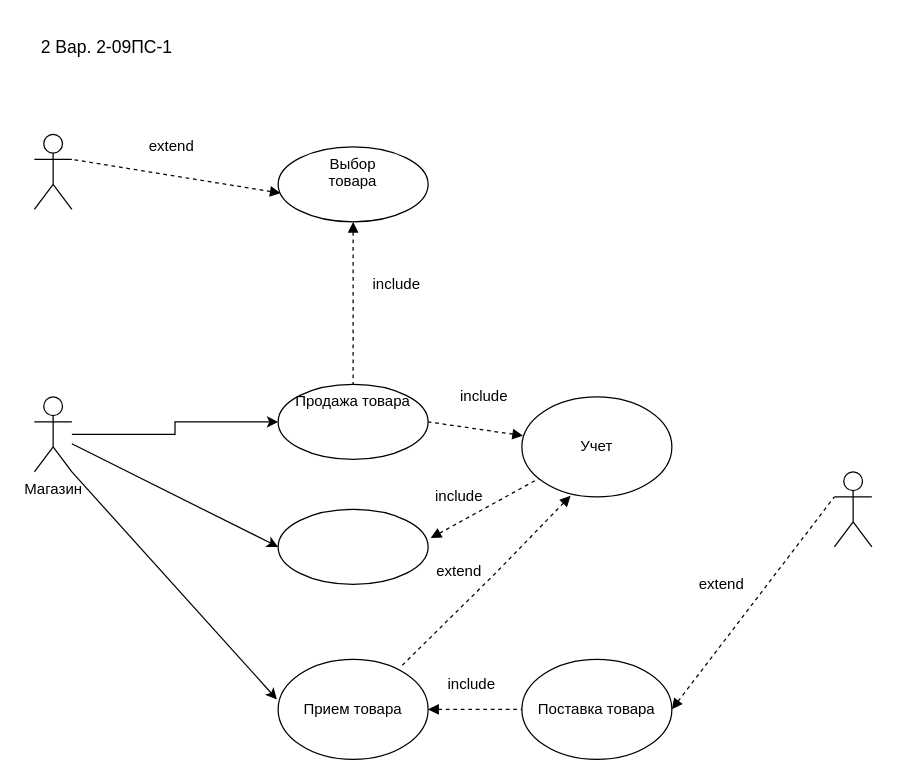
This 913x781 diagram has some shape labels left out. The centre of each missing label's shape, as x and y in pixels:
"Анализ" belongs at point (352, 546).
"Клиент" belongs at point (52, 171).
"Поставщик" belongs at point (852, 509).
